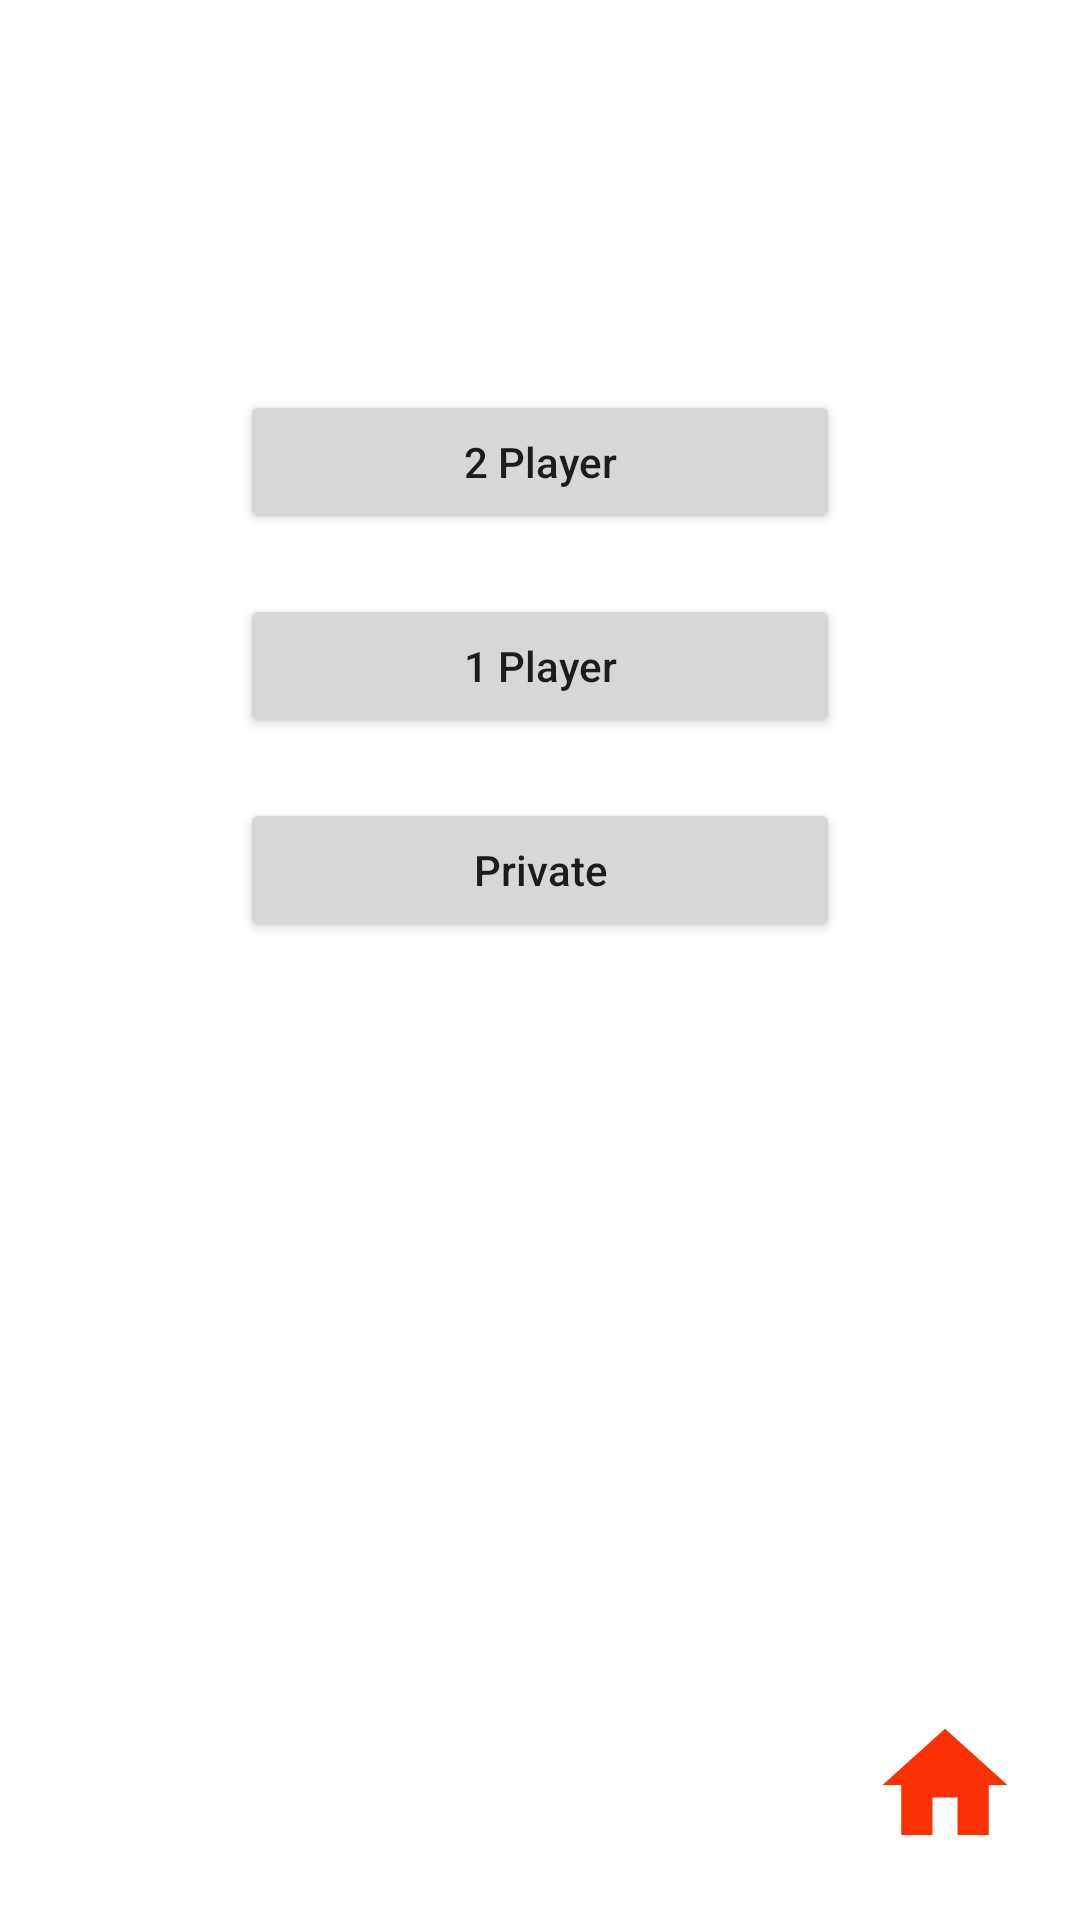

Named icons in this screenshot (1080 x 1920) and their centers, (x=x, y=y):
home: (x=945, y=1782)
